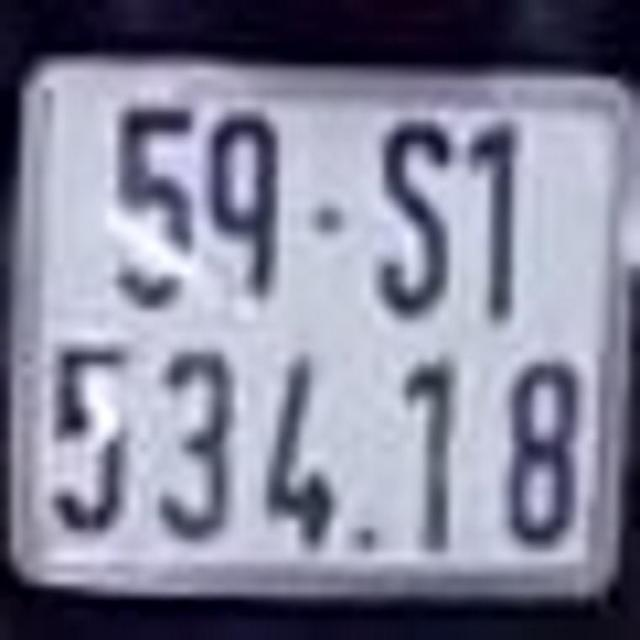1: (462, 118, 520, 332), (401, 350, 458, 550)
3: (163, 348, 228, 540)
4: (264, 347, 336, 552)
5: (112, 108, 195, 310), (52, 338, 126, 529)
8: (513, 358, 576, 542)
9: (203, 110, 280, 316)
S: (380, 121, 450, 313)
